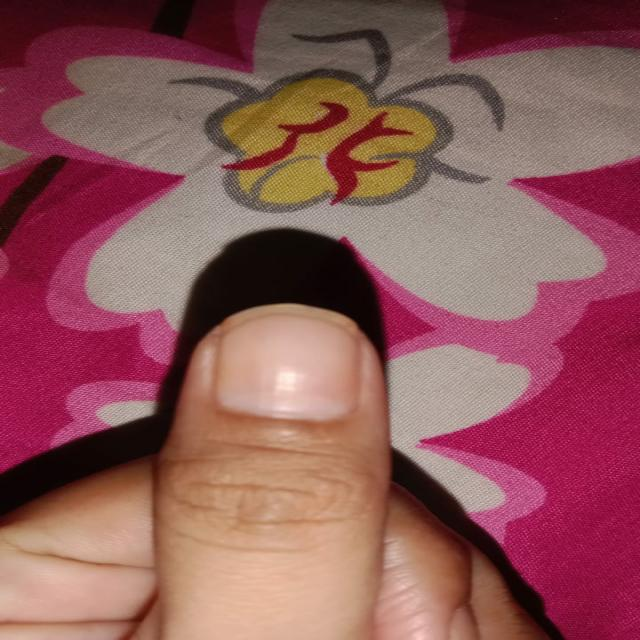sehat: (215, 315, 361, 417)
